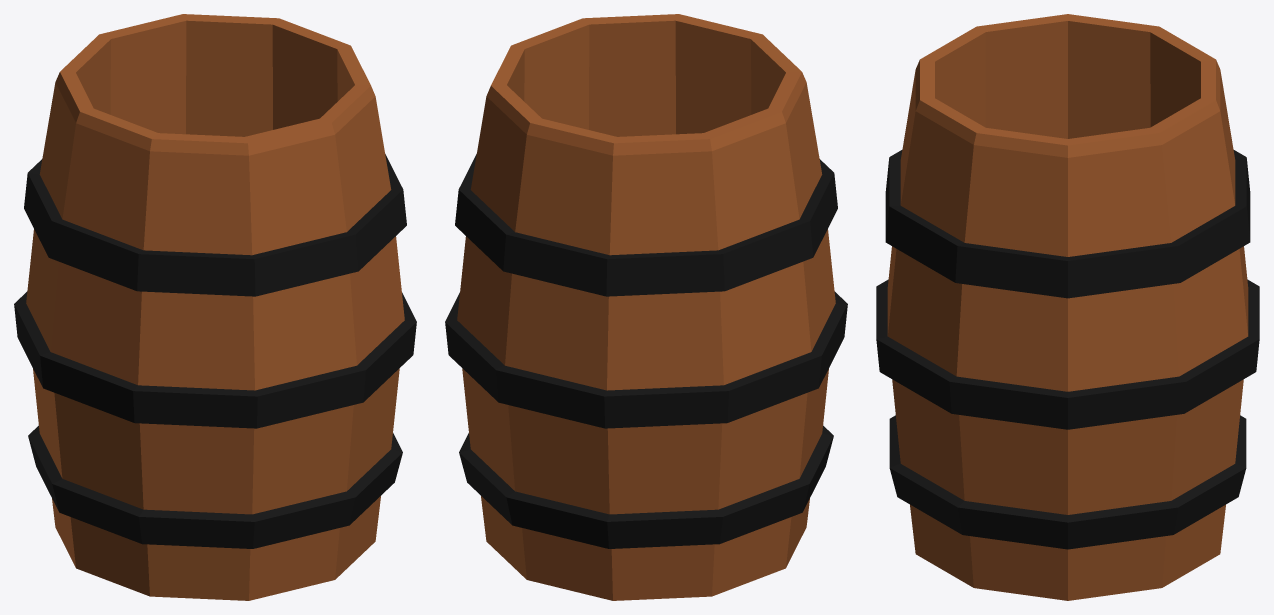
File: Barel1.fbx
The picture shows the model from 3 angles, left to right: view 1: azimuth 30°, elevation 25°; view 2: azimuth 150°, elevation 25°; view 3: azimuth 270°, elevation 25°; orthographic projection.
Visible parts, largest first — view 1: Barel1; view 2: Barel1; view 3: Barel1.
Boxes of the visible parts, <box> form: Barel1: <box>14,14,416,600</box>; Barel1: <box>445,14,847,600</box>; Barel1: <box>876,14,1259,600</box>.
Bounding box in the file's own units: 0.5347 × 0.6638 × 0.5085.
